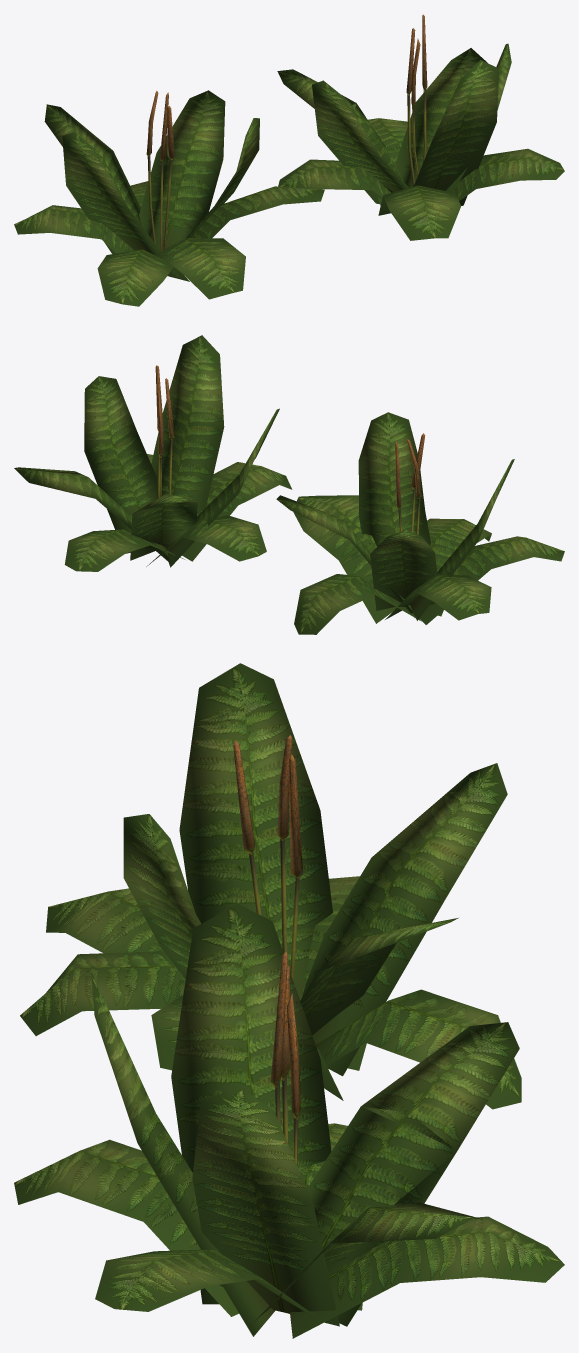
File: Cinnamomeum_m.FBX
The picture shows the model from 3 angles, top to bottom: view 1: azimuth 30°, elevation 25°; view 2: azimuth 150°, elevation 25°; view 3: azimuth 270°, elevation 25°; orthographic projection. The views are drawn at different scales.
Parts seen in each view (by area): view 1: Cinnamomeum, Cinnamomeum004; view 2: Cinnamomeum004, Cinnamomeum; view 3: Cinnamomeum004, Cinnamomeum.
Part boxes in pixels (left/top/right/bottom): Cinnamomeum: left=14, top=90, right=324, bottom=306; Cinnamomeum004: left=277, top=14, right=564, bottom=240; Cinnamomeum004: left=14, top=335, right=292, bottom=571; Cinnamomeum: left=276, top=412, right=564, bottom=634; Cinnamomeum004: left=14, top=903, right=564, bottom=1338; Cinnamomeum: left=20, top=663, right=521, bottom=1109.
Bounding box in the file's own units: 162 × 64.36 × 86.33.
